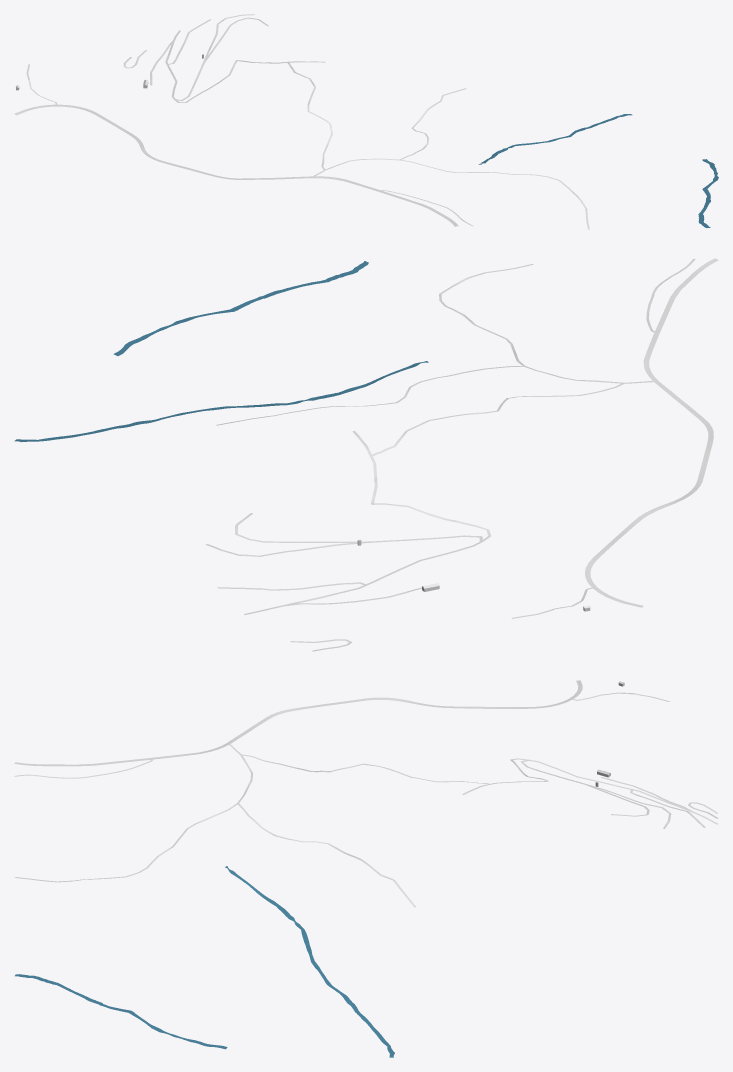
Rendered from objekty.glb.
3 views of the same model, one above another, from view 1: azimuth 30°, elevation 25°; view 2: azimuth 150°, elevation 25°; view 3: azimuth 270°, elevation 25° (orthographic). The views are drawn at different scales.
Parts seen in each view (by area): view 1: Cesty_09_04, Voda_09_04; view 2: Cesty_09_04, Voda_09_04; view 3: Cesty_09_04, Voda_09_04.
Boxes of the visible parts, x1,y1,x2,y2 form: Cesty_09_04: [14, 14, 589, 229]; Voda_09_04: [478, 114, 718, 227]; Cesty_09_04: [206, 258, 718, 651]; Voda_09_04: [14, 261, 428, 442]; Cesty_09_04: [14, 680, 718, 907]; Voda_09_04: [15, 866, 394, 1057].
Size of the model in its own units: 1007 by 173 by 1005.
